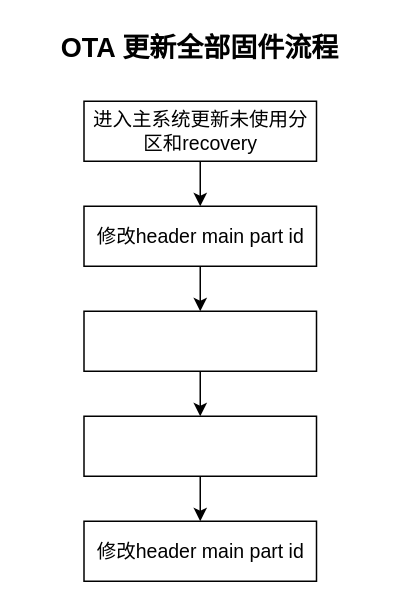
This 399x608 diagram has some shape labels left out. Each missing label, with the box of its shape:
进入recovery更新旧分区和主系统: (82, 415, 316, 476)
重启进入recovery: (82, 310, 316, 371)
